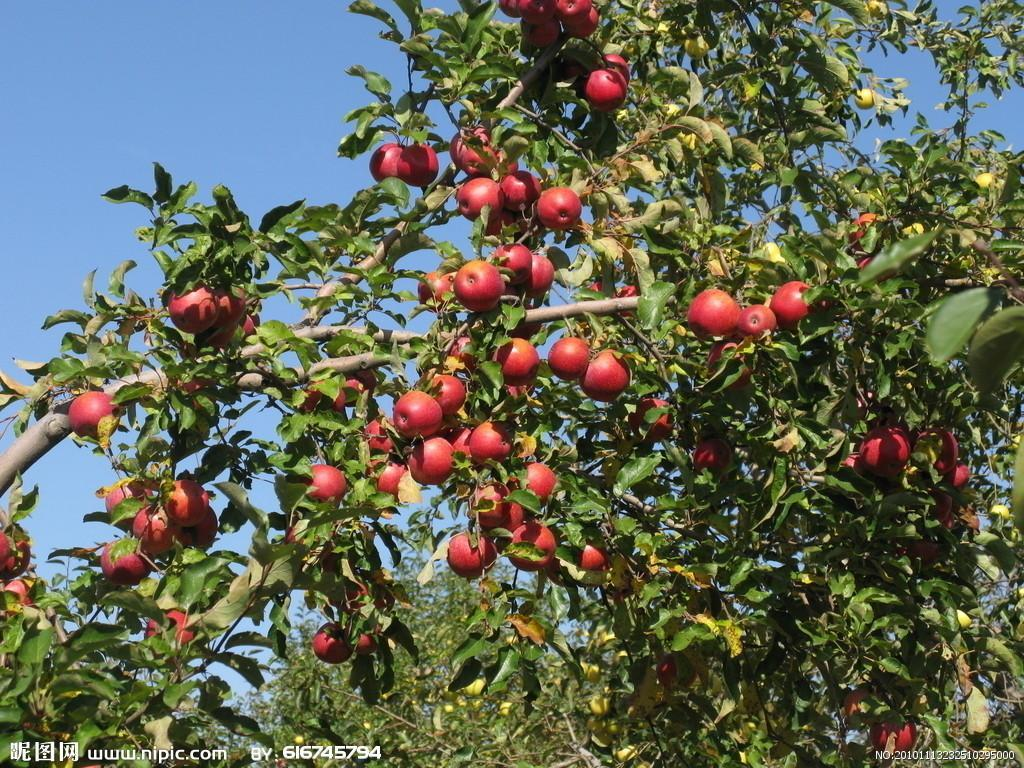apple: (164, 280, 224, 336), (685, 288, 743, 339), (399, 436, 459, 485), (488, 337, 543, 387), (452, 260, 503, 311), (98, 536, 149, 586), (583, 352, 633, 403), (66, 391, 115, 441), (391, 389, 442, 435), (445, 530, 497, 575), (466, 418, 519, 461), (507, 526, 559, 569), (163, 480, 212, 523), (500, 165, 539, 217), (455, 175, 502, 218), (773, 281, 814, 329), (536, 186, 581, 229), (582, 68, 625, 112), (395, 141, 434, 189), (309, 624, 353, 665), (550, 335, 591, 377), (417, 267, 456, 311), (307, 463, 347, 502), (523, 461, 556, 500), (461, 144, 498, 176), (741, 304, 774, 339)
